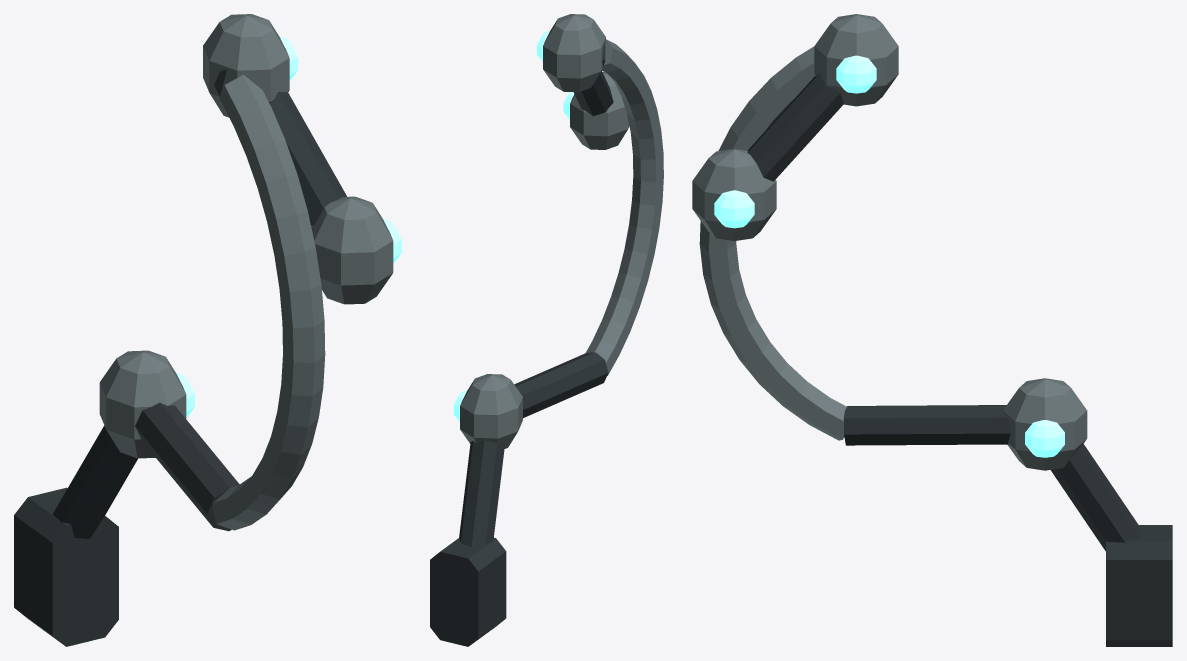
File: cranial_interface_left.glb
3 views of the same model, side by side, from view 1: azimuth 30°, elevation 25°; view 2: azimuth 150°, elevation 25°; view 3: azimuth 270°, elevation 25° (orthographic). The views are drawn at different scales.
Parts seen in each view (by area): view 1: cranial_interface_left; view 2: cranial_interface_left; view 3: cranial_interface_left.
Boxes of the visible parts, left/top/right/bottom form: cranial_interface_left: left=14, top=14, right=401, bottom=646; cranial_interface_left: left=430, top=14, right=663, bottom=646; cranial_interface_left: left=692, top=14, right=1172, bottom=646.
Bounding box in the file's own units: 0.0237 × 0.1255 × 0.0866.
